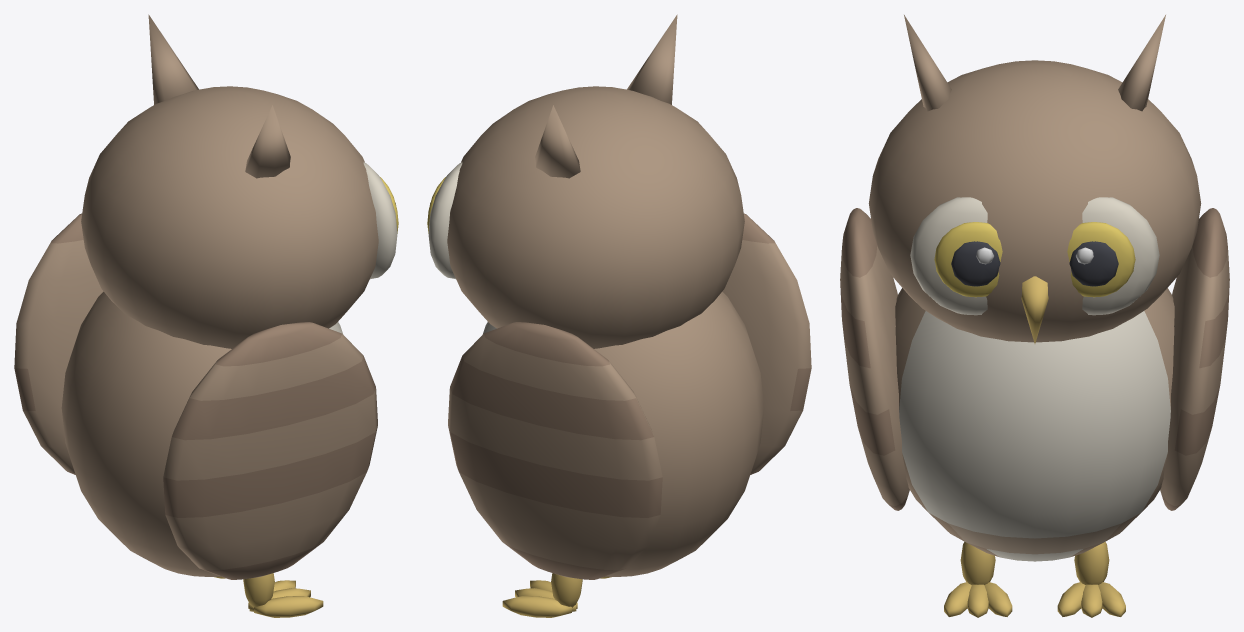
File: owl.glb
3 renders of one model, left to right at view 1: azimuth 30°, elevation 25°; view 2: azimuth 150°, elevation 25°; view 3: azimuth 270°, elevation 25°, orthographic. The views are drawn at different scales.
Visible parts, largest first — view 1: Head, WingR, Body, WingL, FootR; view 2: Head, WingL, Body, WingR, FootL; view 3: Head, Body, WingL, WingR, FootL, FootR.
Part boxes in pixels (x1,y1,x2,y2): Head: (81,14,398,348); WingR: (163,322,377,579); Body: (61,291,343,576); WingL: (14,213,103,474); FootR: (243,573,323,617); Head: (427,14,744,348); WingL: (448,322,662,579); Body: (482,291,764,576); WingR: (722,213,811,474); FootL: (502,573,582,617); Head: (868,15,1201,343); Body: (895,288,1174,561); WingL: (1160,208,1229,510); WingR: (840,208,909,510); FootL: (1057,541,1125,617); FootR: (944,541,1012,617).
Bounding box in the file's own units: 0.82 × 1.45 × 0.8911.
